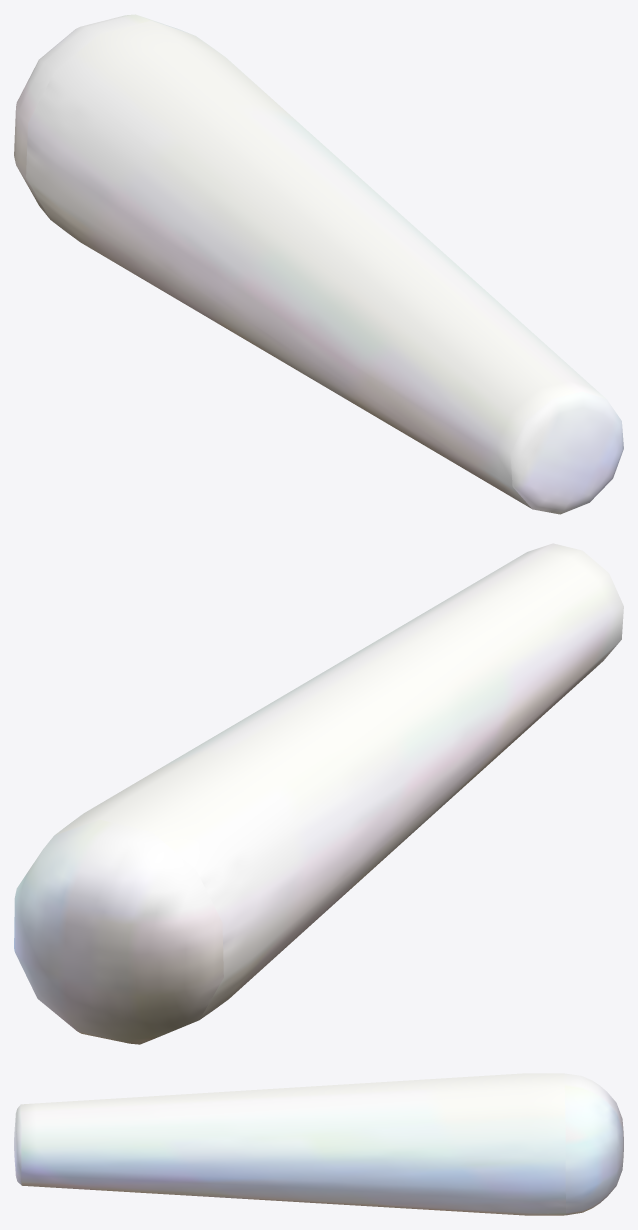
The model's file is mortar_stick.glb.
3 views of the same model, one above another, from view 1: azimuth 30°, elevation 25°; view 2: azimuth 150°, elevation 25°; view 3: azimuth 270°, elevation 25° (orthographic). The views are drawn at different scales.
Visible parts, largest first — view 1: mortar_stick; view 2: mortar_stick; view 3: mortar_stick.
Part boxes in pixels (bbox=[...]): mortar_stick: bbox=[14, 14, 623, 514]; mortar_stick: bbox=[14, 543, 623, 1044]; mortar_stick: bbox=[14, 1073, 623, 1215].
Size of the model in its own units: 0.0122 by 0.0122 by 0.0527.
1 material, 1 textured.
